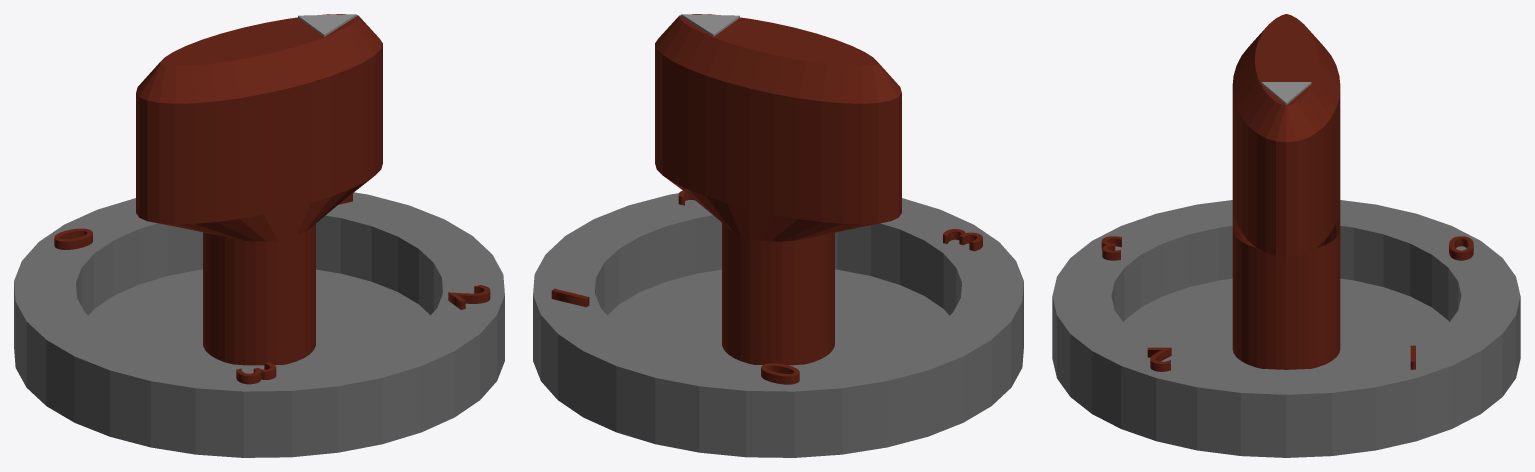
The model's file is Starter.fbx.
3 renders of one model, left to right at view 1: azimuth 30°, elevation 25°; view 2: azimuth 150°, elevation 25°; view 3: azimuth 270°, elevation 25°, orthographic. The views are drawn at different scales.
Parts seen in each view (by area): view 1: Body, Head; view 2: Body, Head; view 3: Body, Head.
Boxes of the visible parts, bbox=[...] form: Body: bbox=[14, 192, 504, 457]; Head: bbox=[136, 14, 382, 365]; Body: bbox=[533, 190, 1023, 457]; Head: bbox=[655, 14, 901, 365]; Body: bbox=[1052, 200, 1520, 457]; Head: bbox=[1232, 14, 1340, 369].
Bounding box in the file's own units: 53.51 × 37.97 × 53.51.
